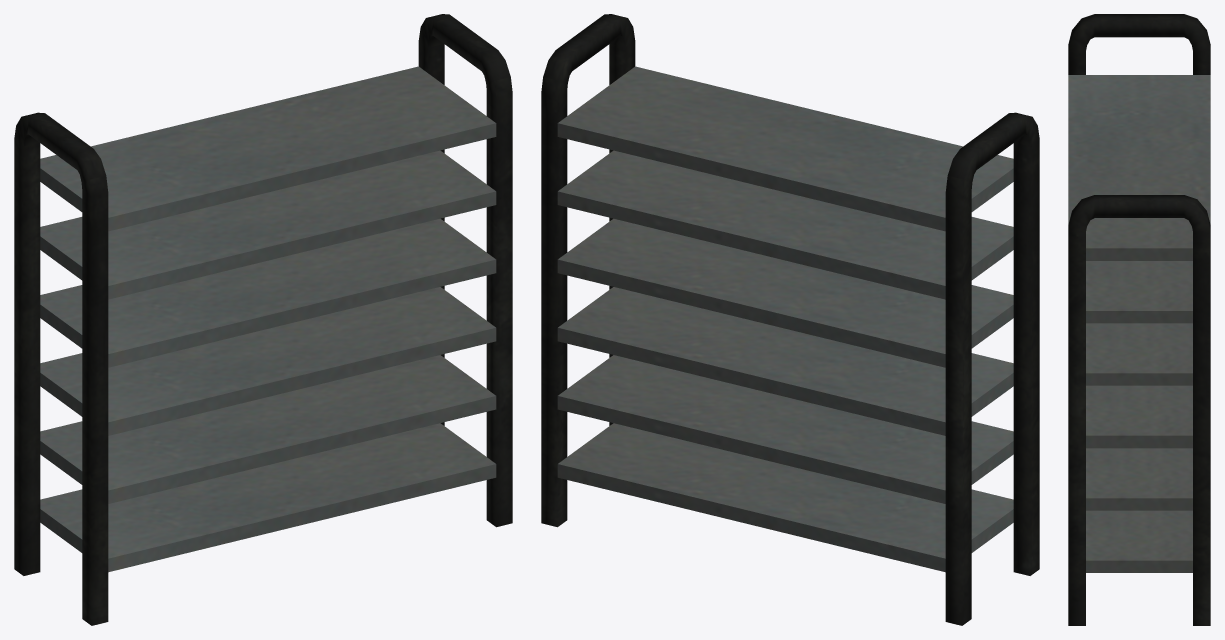
Rendered from Shelf.fbx.
3 views of the same model, side by side, from view 1: azimuth 30°, elevation 25°; view 2: azimuth 150°, elevation 25°; view 3: azimuth 270°, elevation 25° (orthographic). The views are drawn at different scales.
Visible parts, largest first — view 1: Shelf; view 2: Shelf; view 3: Shelf.
Boxes of the visible parts, x1,y1,x2,y2 form: Shelf: [14, 14, 512, 625]; Shelf: [541, 14, 1039, 625]; Shelf: [1068, 14, 1210, 625].
Size of the model in its own units: 187 by 196 by 59.62.
